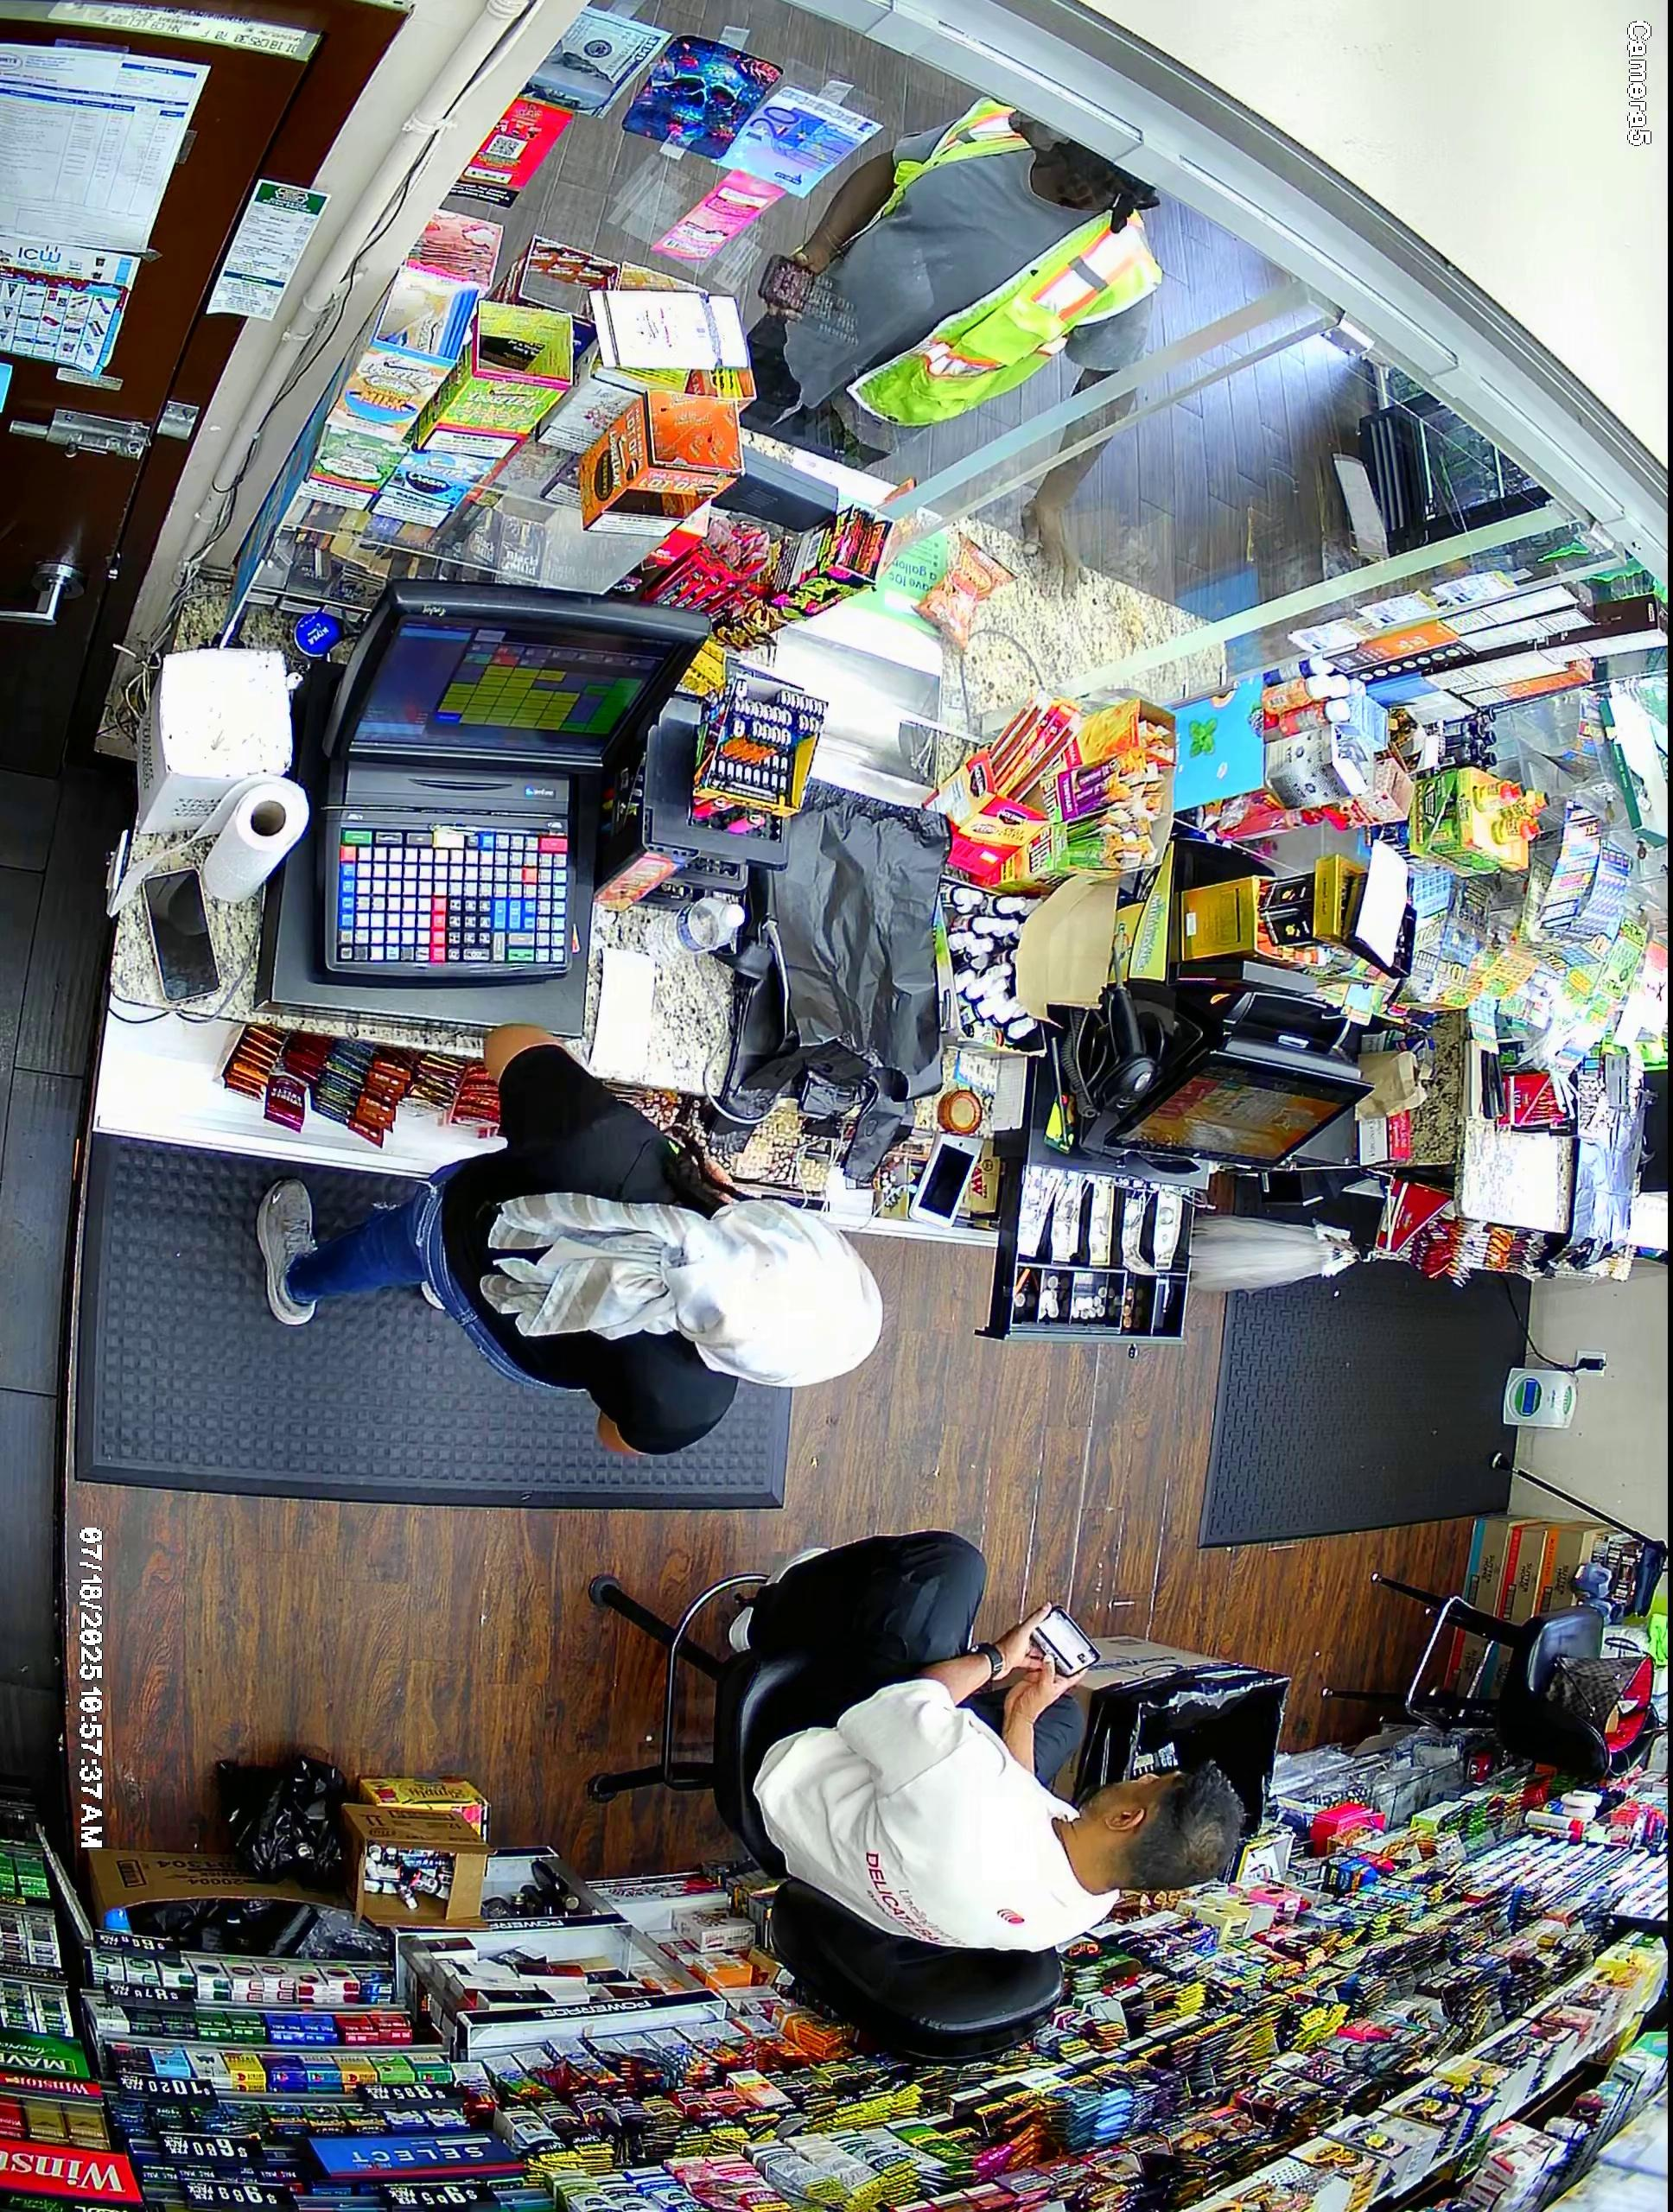phone: (1023, 1597, 1102, 1685), (747, 244, 828, 327)
